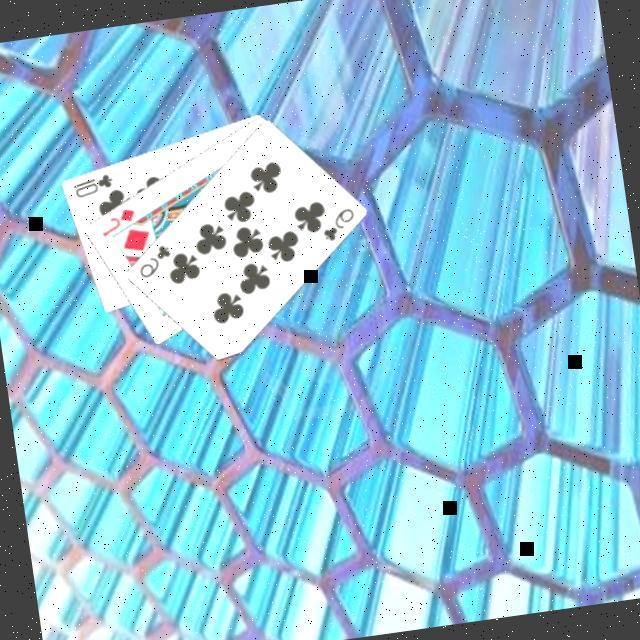10C: (66, 171, 115, 203)
9C: (314, 205, 359, 248), (130, 243, 175, 284)
JD: (93, 205, 139, 242)
